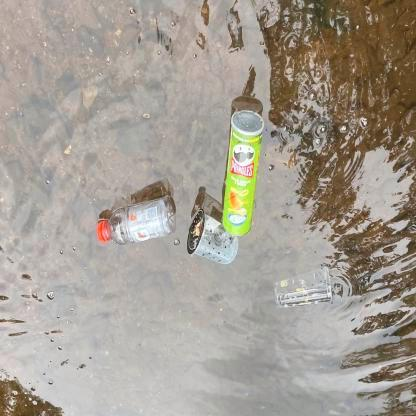Metal: (218, 107, 264, 245)
Plastic: (89, 189, 182, 254), (184, 205, 242, 269), (270, 267, 343, 311)
